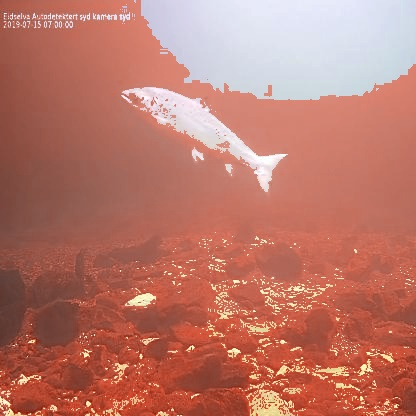salmon: (119, 82, 290, 201)
